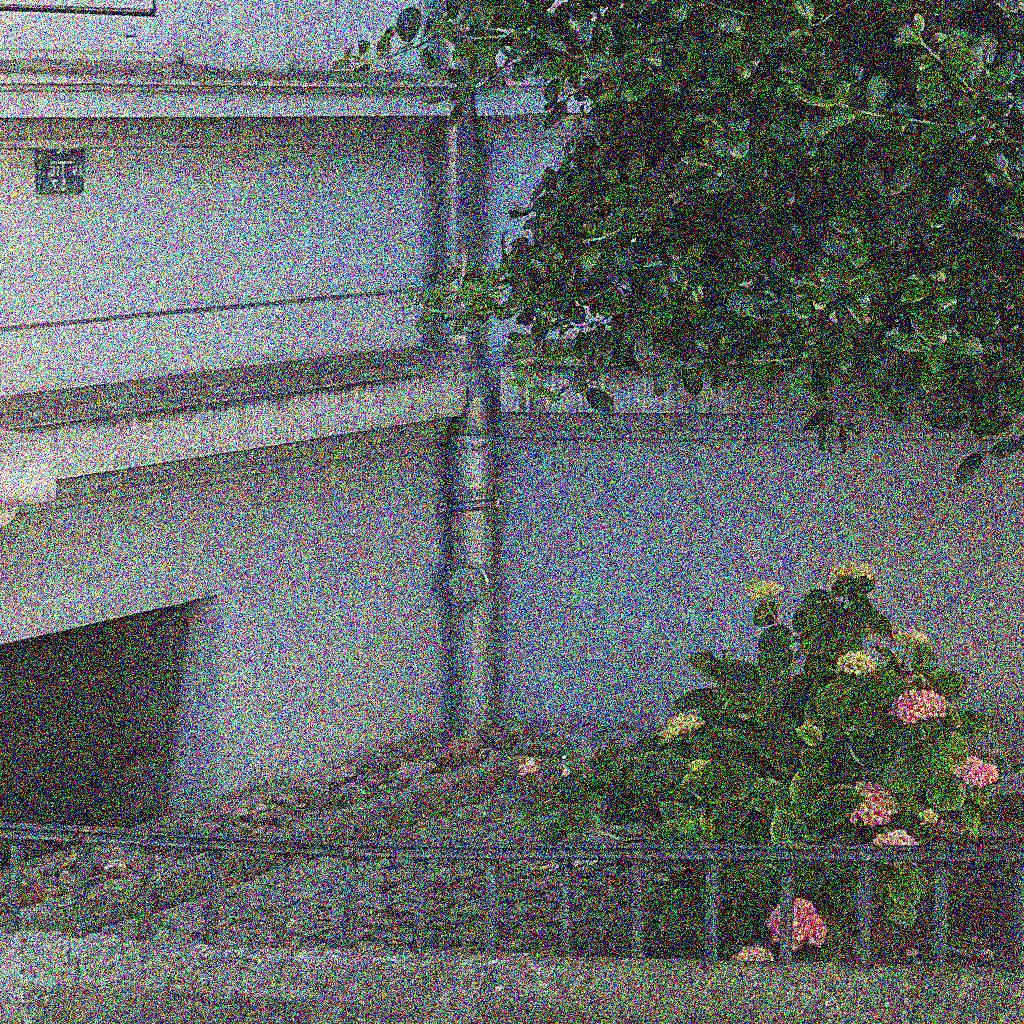tree: (332, 1, 1023, 481)
